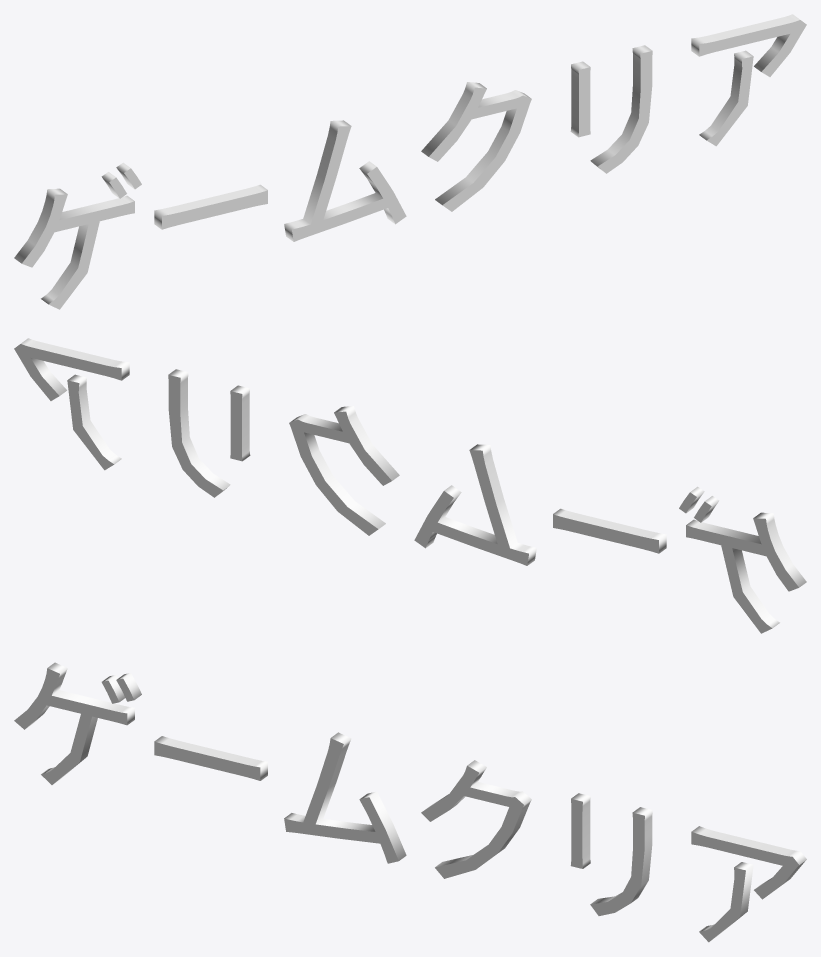
Rendered from GameClearFont.obj.
3 views of the same model, one above another, from view 1: azimuth 30°, elevation 25°; view 2: azimuth 150°, elevation 25°; view 3: azimuth 330°, elevation 25° (orthographic).
Parts seen in each view (by area): view 1: テキスト; view 2: テキスト; view 3: テキスト.
Part boxes in pixels (bbox=[...]): テキスト: bbox=[14, 14, 806, 309]; テキスト: bbox=[14, 338, 806, 633]; テキスト: bbox=[14, 662, 806, 942].
Size of the model in its own units: 5.88 by 0.889 by 0.1.
